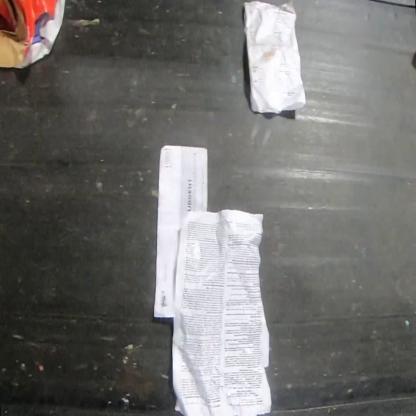cardboard: (0, 0, 66, 70)
